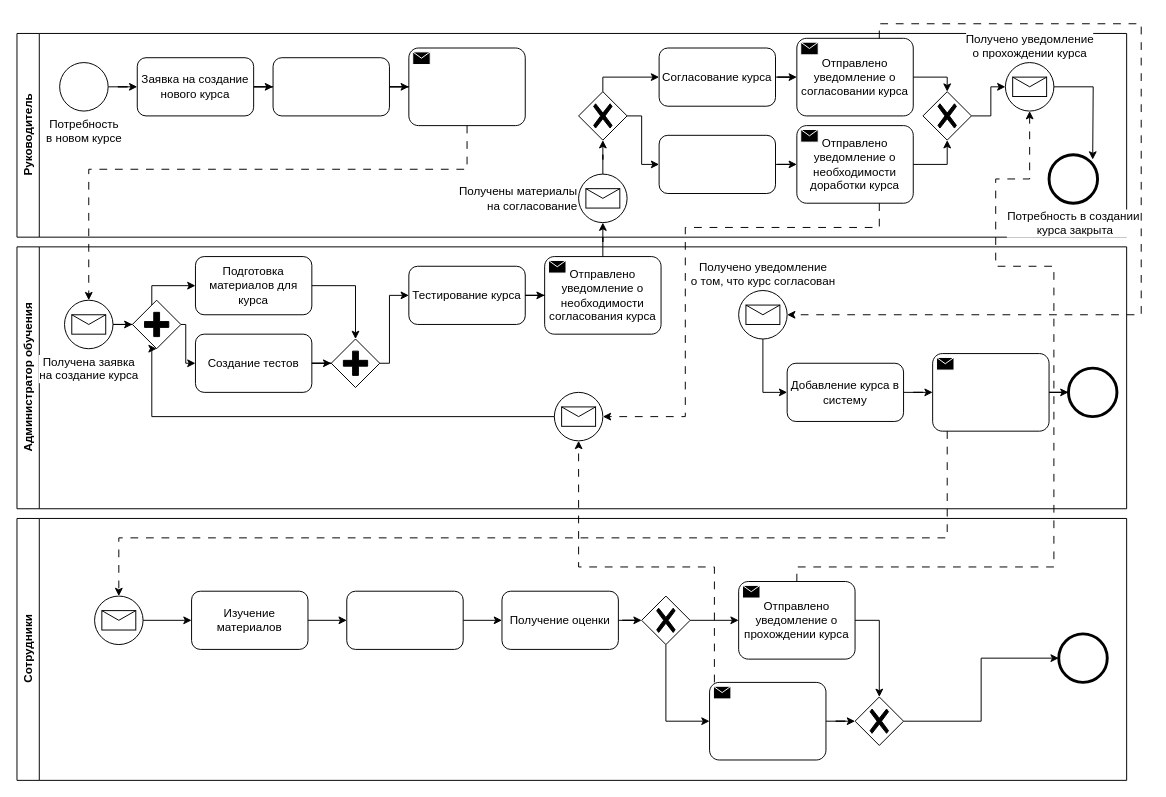
Image size: 1166x797. Some labels were removed from this diagram. The centre of each missing label's shape, as x and y in pixels:
"Курс пройден" belongs at (x=1082, y=657).
"Курс создан" belongs at (x=1092, y=392).
"Отправена обратная связь об ошибках в курсе" belongs at (x=767, y=720).
"Отправить на доработку" belongs at (x=717, y=164).
"Отправлено уведомление о необходимости пройти новый курс" belongs at (x=990, y=392).
"Отправлено уведомление о необходимости создания курса" belongs at (x=466, y=86).
"Получено уведомление о необходимости доработки курса" belongs at (x=578, y=416).
"Получено уведомление о новом курсе" belongs at (x=118, y=620).
"Прохождение тестов" belongs at (x=404, y=619).
"Составление ТЗ" belongs at (x=330, y=86).
